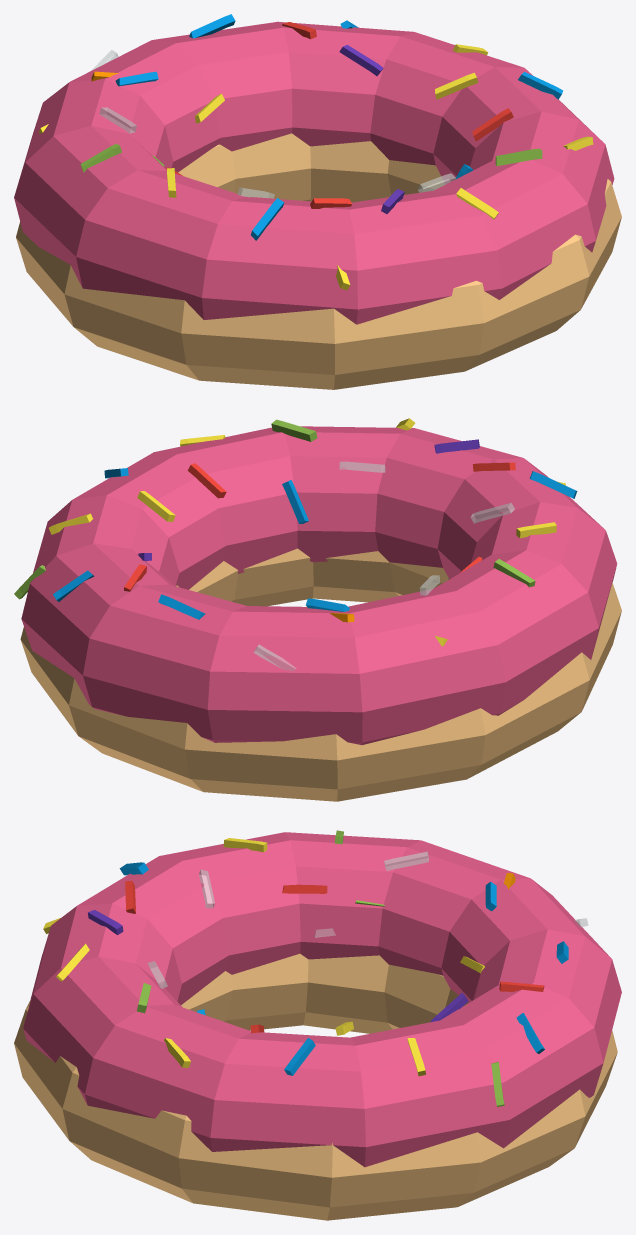
Rendered from doughnut.obj.
3 renders of one model, top to bottom at view 1: azimuth 30°, elevation 25°; view 2: azimuth 150°, elevation 25°; view 3: azimuth 270°, elevation 25°, orthographic.
Visible parts, largest first — view 1: group1362374430, group2098678608, group1032171036, group1138604164, group356462606; view 2: group1362374430, group2098678608, group1032171036; view 3: group1362374430, group2098678608.
Boxes of the visible parts, box(x1,y1,x2,y2) form: group1362374430: box(14, 21, 614, 324); group2098678608: box(16, 133, 621, 389); group1032171036: box(495, 148, 542, 166); group1138604164: box(435, 72, 477, 99); group356462606: box(339, 44, 383, 76); group1362374430: box(21, 426, 617, 745); group2098678608: box(20, 548, 621, 801); group1032171036: box(271, 419, 317, 441); group1362374430: box(23, 832, 621, 1167); group2098678608: box(14, 953, 617, 1220).
Size of the model in its own units: 0.4294 by 0.1566 by 0.432.
